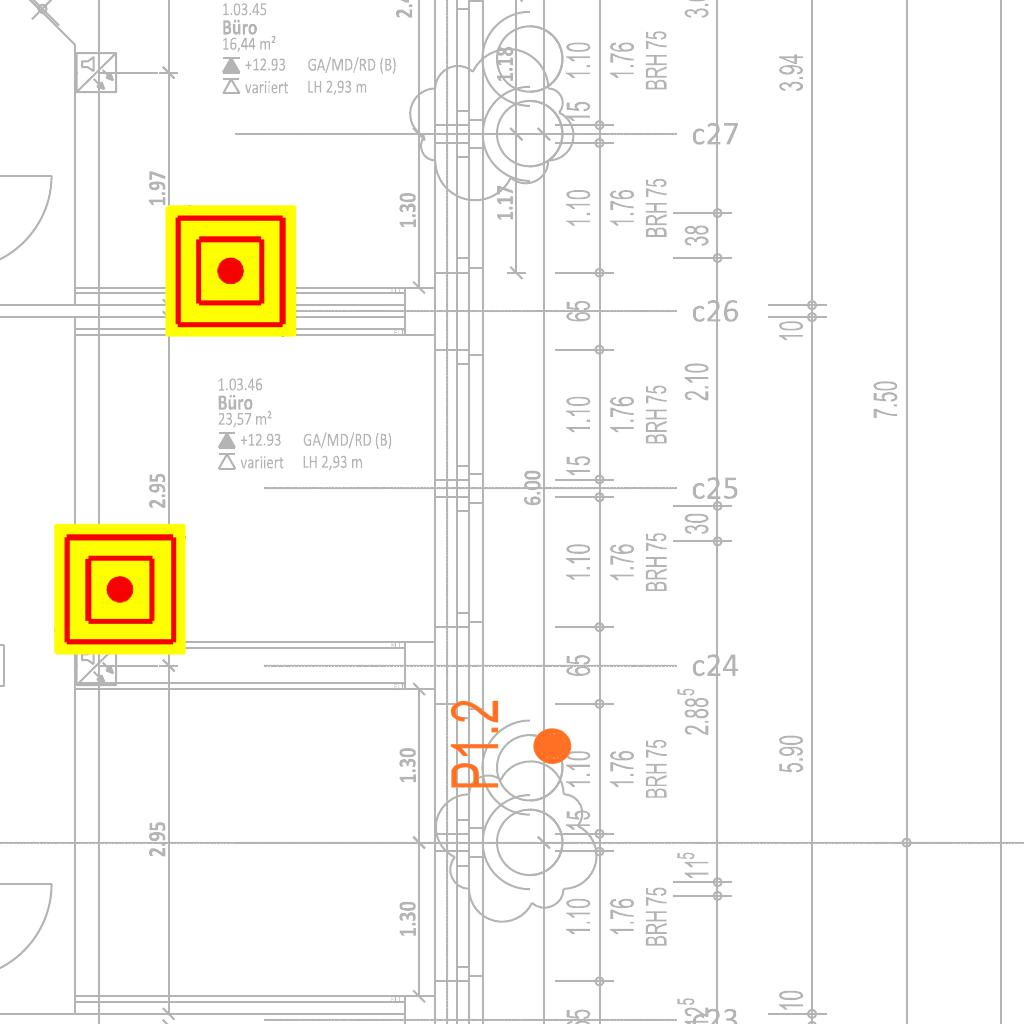Downlight_LED_Einbauleuchten_Flur: (447, 698, 575, 791)
NAM-Nichtautomatischer_Melder: (54, 523, 186, 655), (165, 205, 297, 337)
